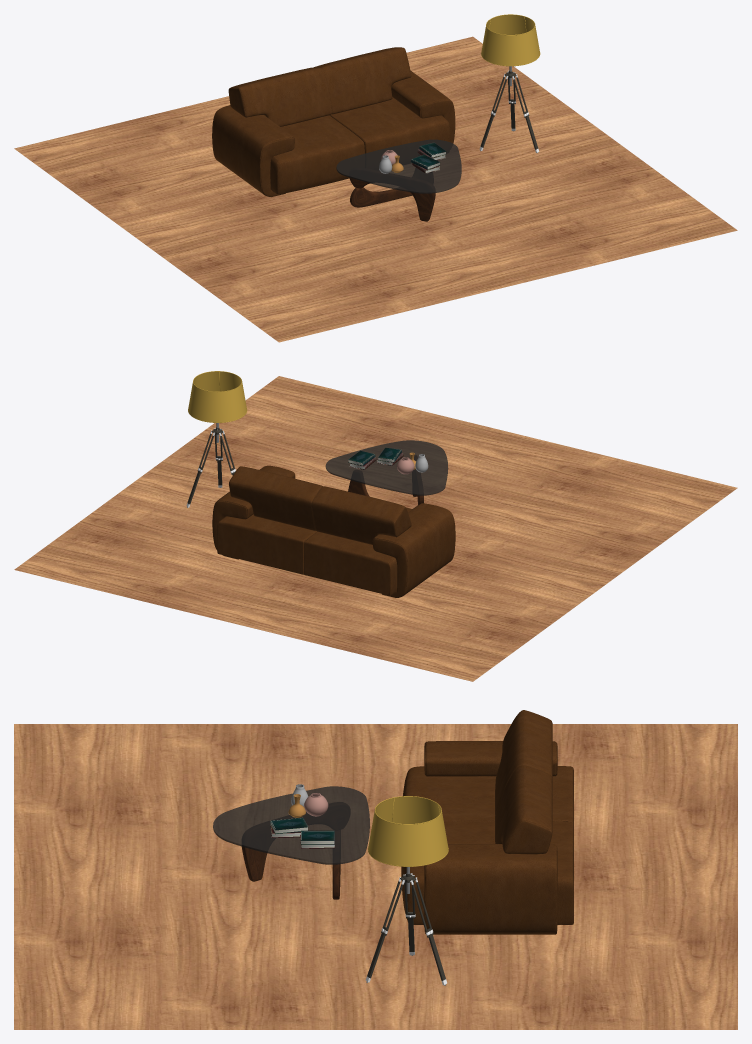
The model's file is Sofa_Lamp_Table.glb.
3 views of the same model, one above another, from view 1: azimuth 30°, elevation 25°; view 2: azimuth 150°, elevation 25°; view 3: azimuth 270°, elevation 25° (orthographic). The views are drawn at different scales.
Parts seen in each view (by area): view 1: Plane, sofa02, obj_03, LampGLow, obj_02, LampStand, obj_01; view 2: Plane, sofa02, obj_03, LampGLow, LampStand; view 3: Plane, sofa02, obj_03, LampGLow, obj_02, LampStand, obj_01.
Part boxes in pixels (x1,y1,x2,y2): Plane: [14, 36, 737, 342]; sofa02: [212, 47, 455, 196]; obj_03: [336, 139, 461, 193]; LampGLow: [481, 14, 540, 66]; obj_02: [349, 168, 435, 221]; LampStand: [479, 66, 539, 153]; obj_01: [350, 154, 433, 207]; Plane: [14, 376, 737, 681]; sofa02: [212, 465, 455, 597]; obj_03: [325, 440, 448, 495]; LampGLow: [188, 371, 247, 422]; LampStand: [186, 423, 235, 507]; Plane: [14, 724, 737, 1029]; sofa02: [401, 710, 573, 934]; obj_03: [213, 786, 369, 864]; LampGLow: [368, 796, 448, 866]; obj_02: [241, 802, 349, 881]; LampStand: [365, 867, 447, 985]; obj_01: [332, 830, 340, 899].
Size of the model in its own units: 4.9 by 1.23 by 4.9.
Materials: 17 (5 with a texture image).
